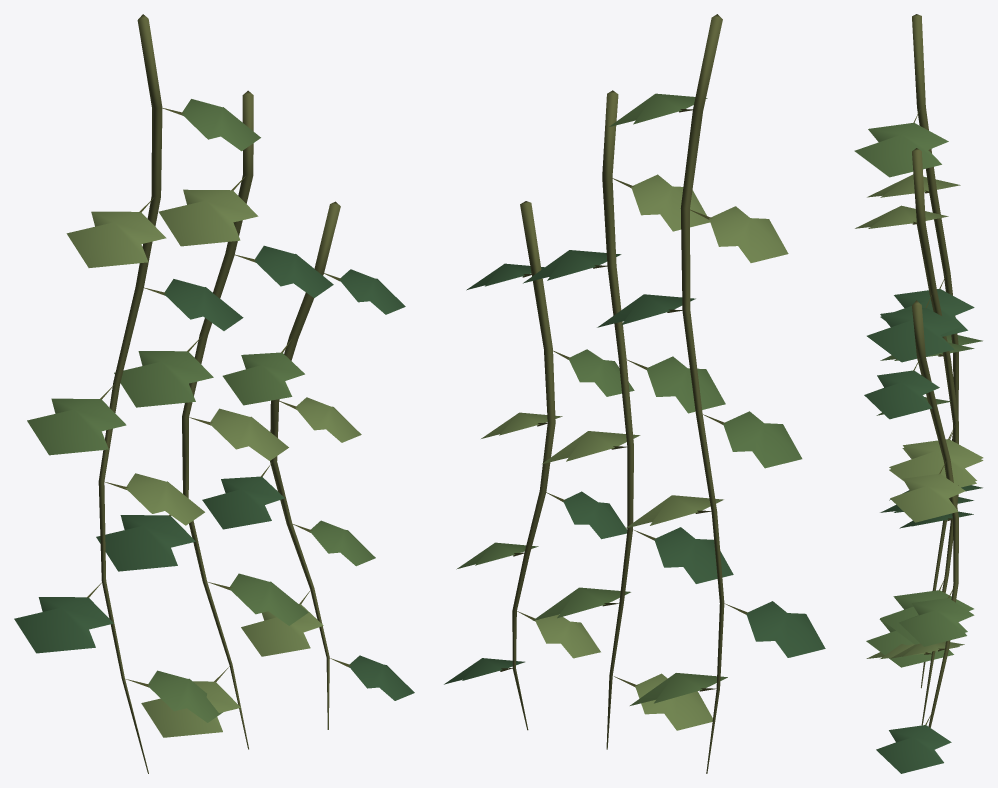
Rendered from woodland_ivy_hanging.glb.
The picture shows the model from 3 angles, left to right: view 1: azimuth 30°, elevation 25°; view 2: azimuth 150°, elevation 25°; view 3: azimuth 270°, elevation 25°; orthographic projection. The views are drawn at different scales.
Parts seen in each view (by area): view 1: body; view 2: body; view 3: body.
Boxes of the visible parts, x1=… form: body: x1=14, y1=14, x2=414, y2=773; body: x1=444, y1=14, x2=825, y2=773; body: x1=854, y1=14, x2=983, y2=773.
Size of the model in its own units: 0.6485 by 1.27 by 0.2231.
